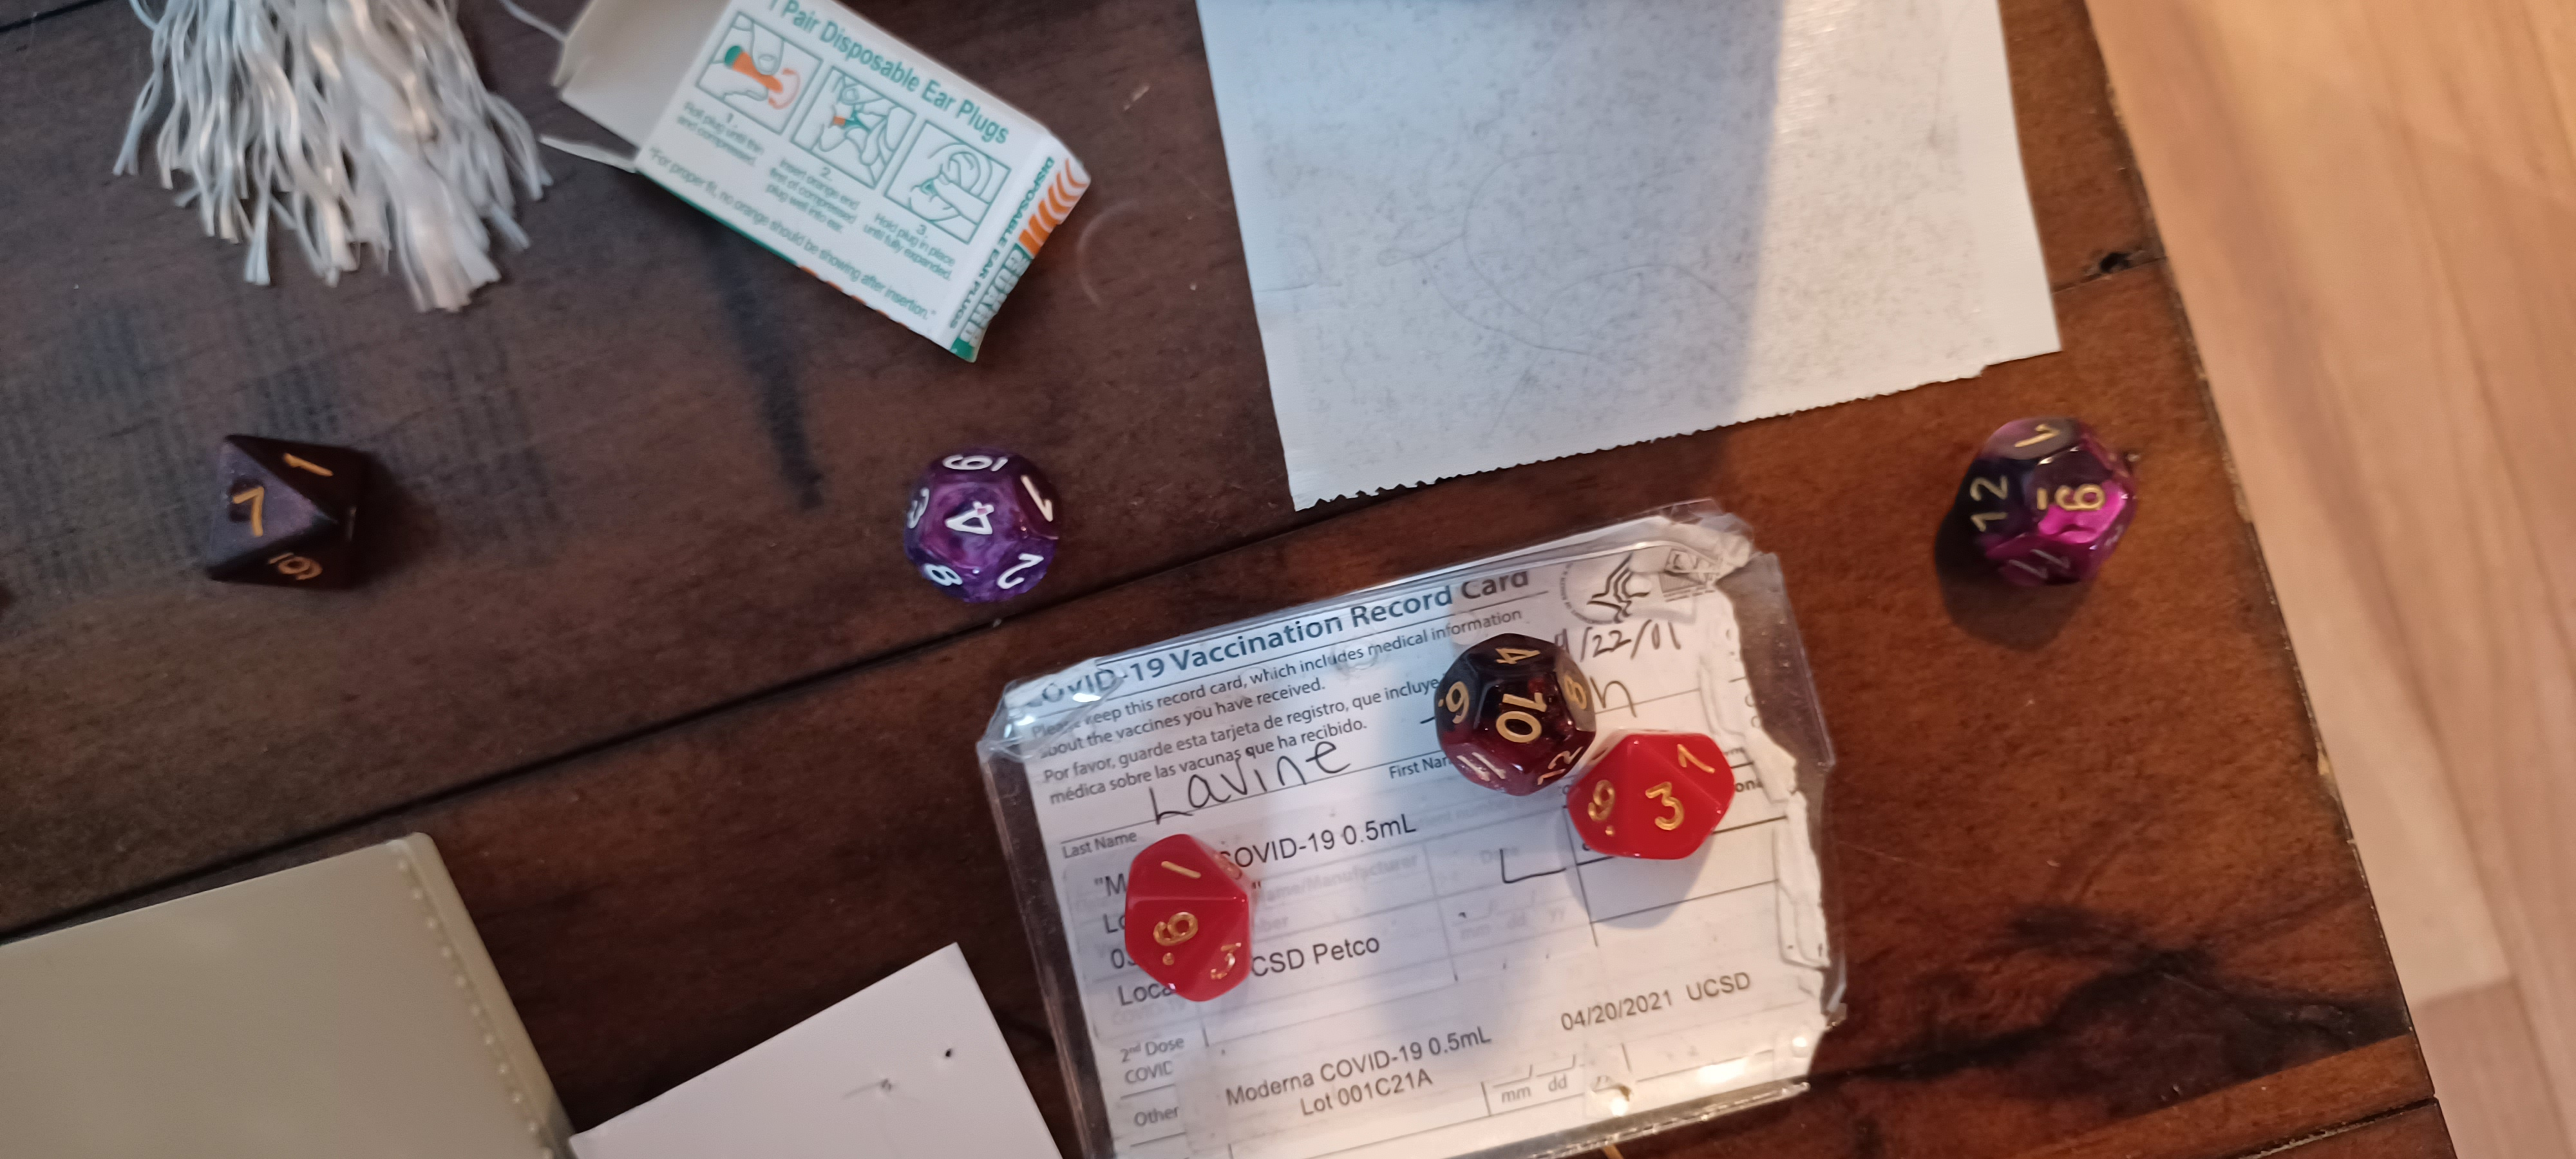four: (843, 424, 1104, 637)
nine: (1932, 383, 2169, 632), (1089, 808, 1299, 1023)
seven: (168, 392, 412, 630)
ten: (1421, 612, 1613, 806)
three: (1554, 709, 1759, 890)
